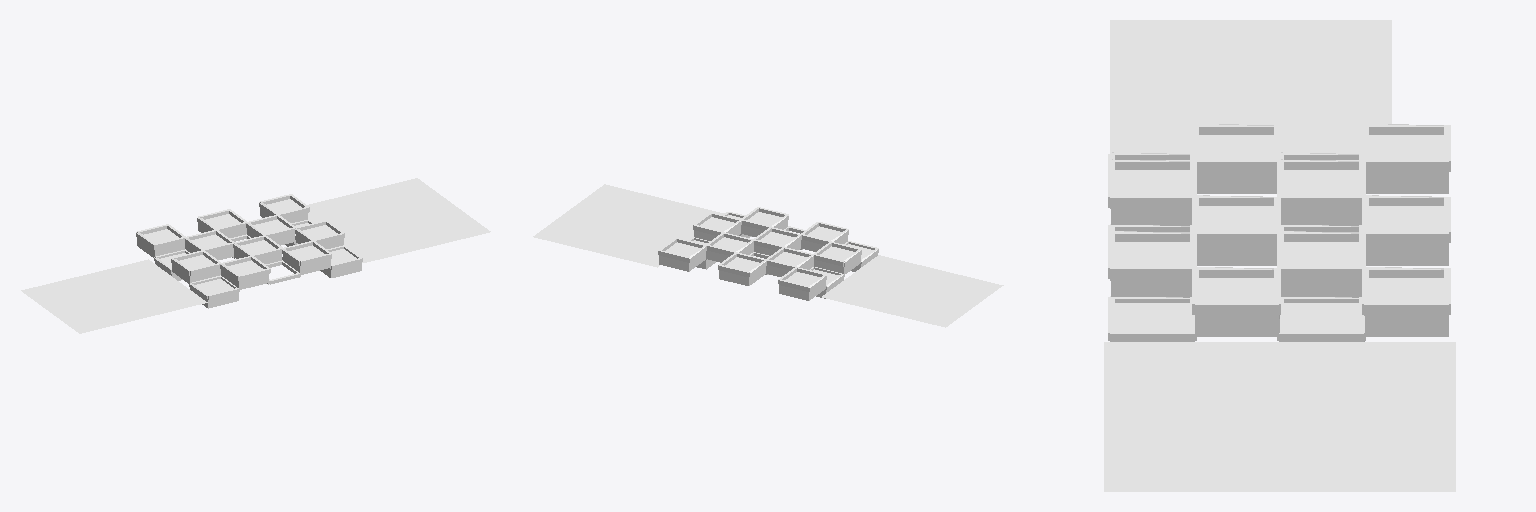
URDF robot description (chair):
<robot name="chair">
  <link name="base_link">
    <visual>
      <origin xyz="0 0 0" rpy="0 0 0" />
      <geometry>
        <mesh filename="package://hpp_environments/meshes/ori/modular_palet_flat_collision.stl"/>
      </geometry>
      <material name="white">
        <color rgba="1 1 1 1"/>
      </material>
    </visual>
    <collision>
      <origin xyz="0 0 0" rpy="0 0 0" />
      <geometry>
        <mesh filename="package://hpp_environments/meshes/ori/modular_palet_flat_collision.stl"/>
      </geometry>
    </collision>
  </link>
</robot>

--- Render facts (derived) ---
3 views of the same robot in one strip: view 1: azimuth 30°, elevation 25°; view 2: azimuth 150°, elevation 25°; view 3: azimuth 270°, elevation 25° (orthographic).
Model chair with 1 links and 0 joints (none), rooted at base_link, posed all joints at 0.
Links seen in each view (by area): view 1: base_link; view 2: base_link; view 3: base_link.
Link boxes in pixels (bbox=[...]): base_link: bbox=[21, 178, 490, 333]; base_link: bbox=[533, 184, 1003, 327]; base_link: bbox=[1104, 20, 1455, 491].
Size in the robot's own frame: 3.2 by 1 by 0.1853 metres.
1 mesh visuals loaded from 1 distinct referenced files (1 binary STL).
